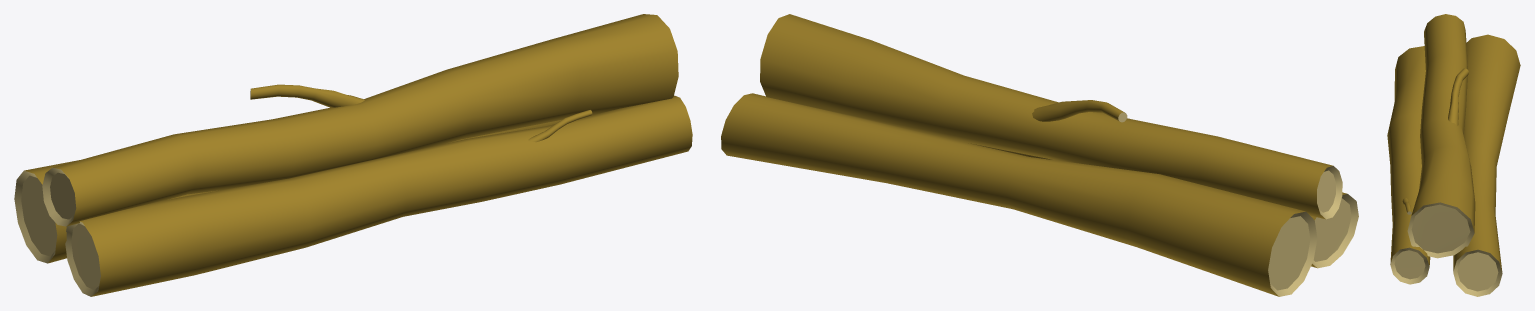
Rendered from LOG-STACK-SMALL.glb.
3 views of the same model, side by side, from view 1: azimuth 30°, elevation 25°; view 2: azimuth 150°, elevation 25°; view 3: azimuth 270°, elevation 25° (orthographic). The views are drawn at different scales.
Visible parts, largest first — view 1: LOG STACK SMALL; view 2: LOG STACK SMALL; view 3: LOG STACK SMALL.
Boxes of the visible parts, x1,y1,x2,y2 form: LOG STACK SMALL: [14, 14, 692, 296]; LOG STACK SMALL: [721, 14, 1358, 296]; LOG STACK SMALL: [1387, 14, 1520, 296].
Size of the model in its own units: 3.6 by 0.7728 by 0.9877.
